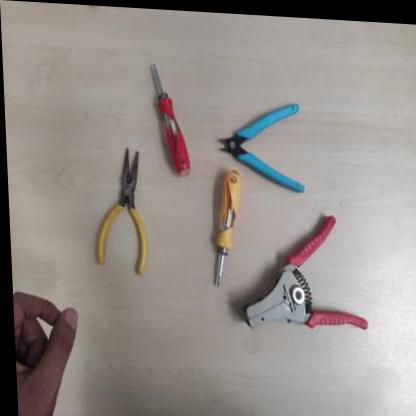Screwdriverrotation: (200, 163, 242, 285), (147, 60, 190, 176)
